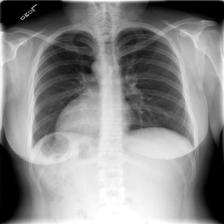normal: (30, 25, 198, 152)
